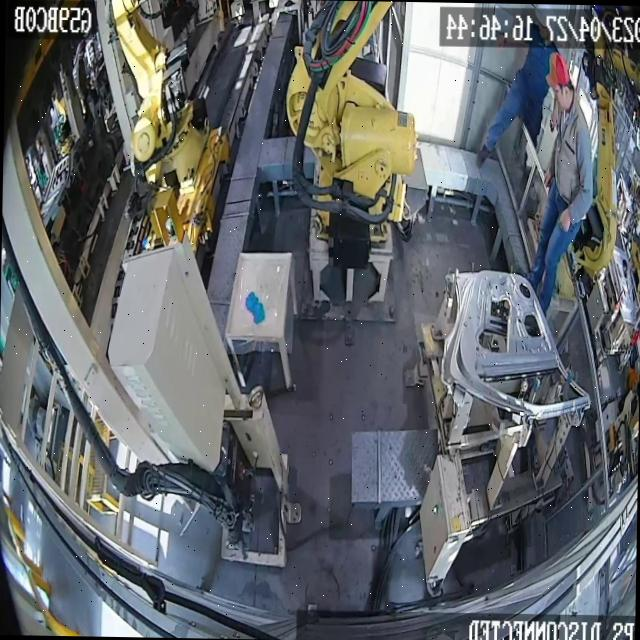Person: (524, 51, 596, 320), (476, 18, 560, 172)
